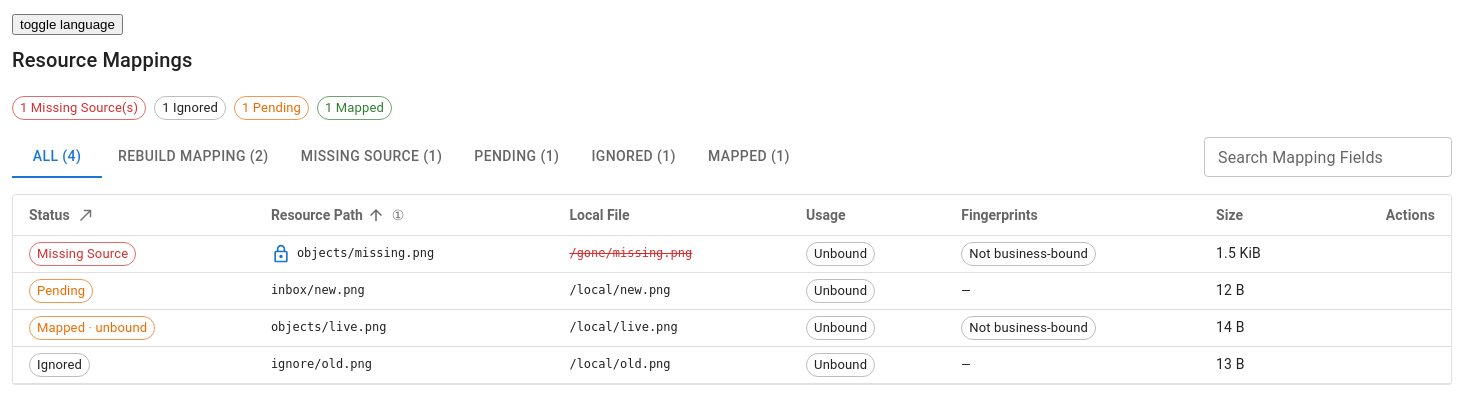
Test case: keeps All actions read-only but exposes status-page actions from capabilities
Expected: the table is shown, x1=13 y1=194 x2=1451 y2=384
Expected: the button "Ignore Resource" is not shown
Click the tab "Pending (1)". click: (517, 157)
box: x1=458 y1=136 x2=575 y2=178
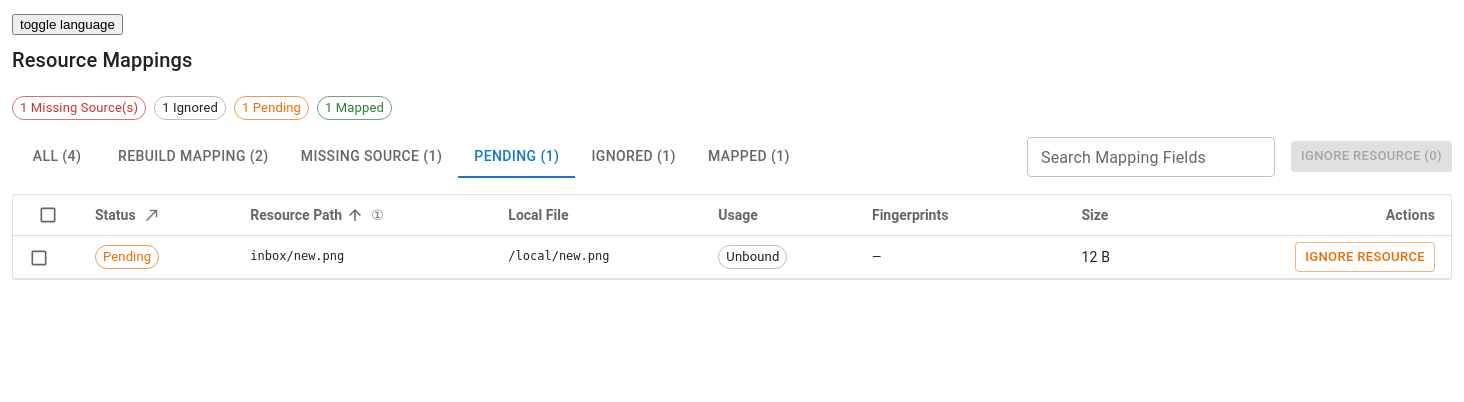
Now the button "Ignore Resource" is shown, box x1=1295 y1=242 x2=1435 y2=272
Click the tab "Ignored (1)". click: (634, 157)
box: x1=575 y1=136 x2=692 y2=178
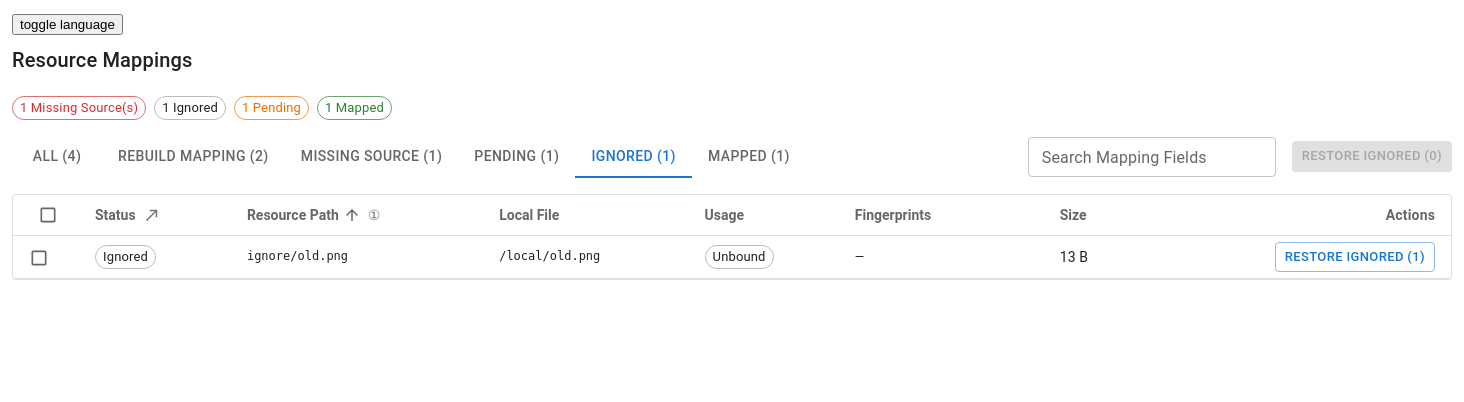
Now the button "Restore ignored (1)" is shown, box x1=1275 y1=242 x2=1435 y2=272
